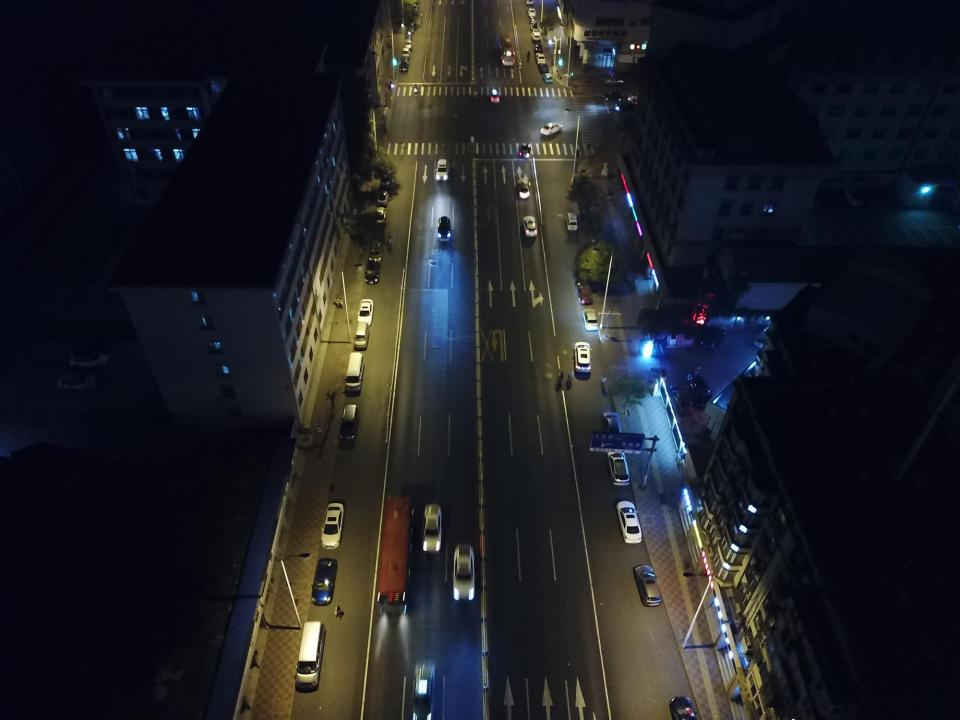bus: (375, 494, 410, 618), (499, 30, 516, 67)
car: (411, 659, 435, 720), (452, 542, 475, 602), (311, 558, 338, 606), (632, 565, 662, 607), (615, 500, 642, 544), (320, 502, 344, 550), (421, 504, 442, 554), (68, 349, 109, 371), (688, 373, 714, 407), (606, 450, 630, 486), (57, 371, 98, 392), (700, 326, 727, 353), (669, 695, 698, 720), (573, 341, 593, 373), (752, 325, 774, 350), (356, 298, 374, 327), (602, 411, 621, 438), (576, 279, 593, 305), (436, 216, 452, 243), (364, 260, 380, 285), (522, 215, 538, 238), (582, 308, 598, 331), (434, 158, 450, 181), (368, 239, 382, 263), (540, 122, 563, 136), (516, 179, 532, 199), (602, 90, 625, 102), (613, 102, 636, 113), (374, 207, 386, 228), (376, 189, 389, 207), (626, 92, 647, 102), (602, 76, 624, 85), (518, 146, 532, 160), (540, 72, 553, 84), (490, 88, 500, 103), (534, 53, 546, 65), (398, 58, 408, 72), (537, 63, 549, 74), (531, 31, 541, 43), (534, 41, 543, 54), (404, 38, 412, 52), (527, 7, 536, 17), (530, 24, 539, 33), (529, 16, 537, 25)
van: (295, 621, 326, 691), (344, 352, 364, 393), (339, 405, 358, 446), (353, 322, 370, 349), (564, 211, 578, 231), (402, 48, 409, 60)
